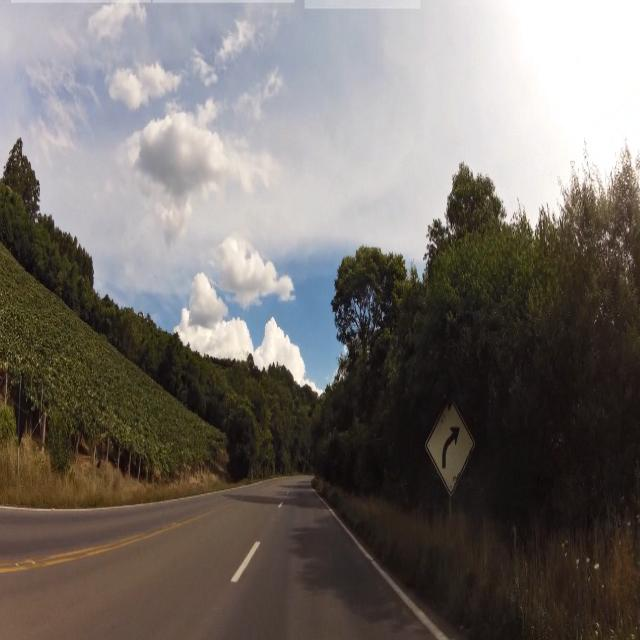A-2b: (424, 390, 478, 500)
